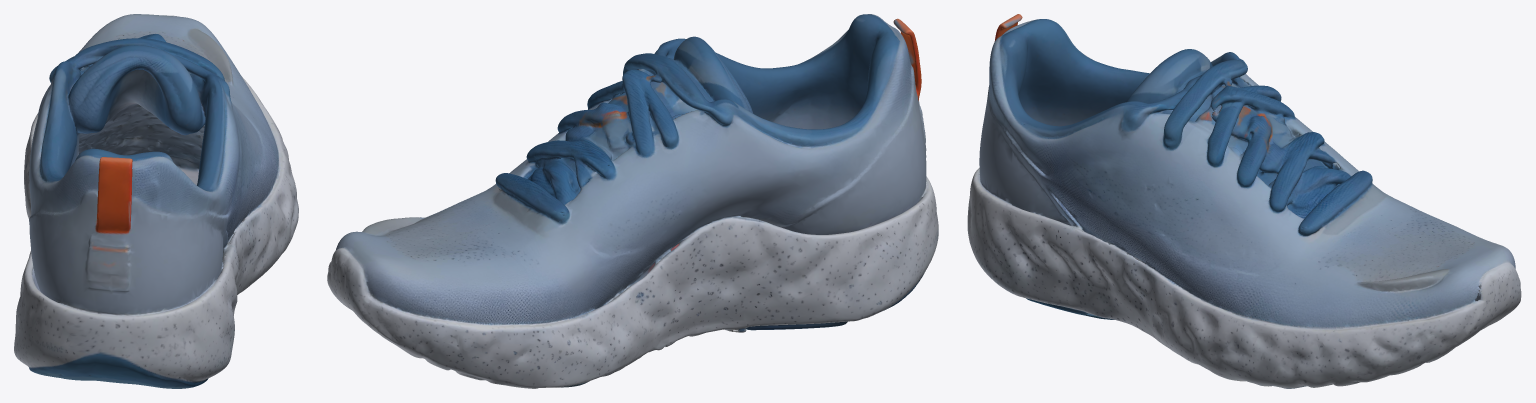
The picture shows the model from 3 angles, left to right: view 1: azimuth 30°, elevation 25°; view 2: azimuth 150°, elevation 25°; view 3: azimuth 270°, elevation 25°; orthographic projection. The views are drawn at different scales.
Parts seen in each view (by area): view 1: model; view 2: model; view 3: model.
Part boxes in pixels (x1,y1,x2,y2): model: (14, 14, 298, 388); model: (327, 14, 938, 388); model: (967, 14, 1521, 388).
Size of the model in its own units: 0.7102 by 0.4588 by 0.8987.
Materials: 1 (1 with a texture image).
